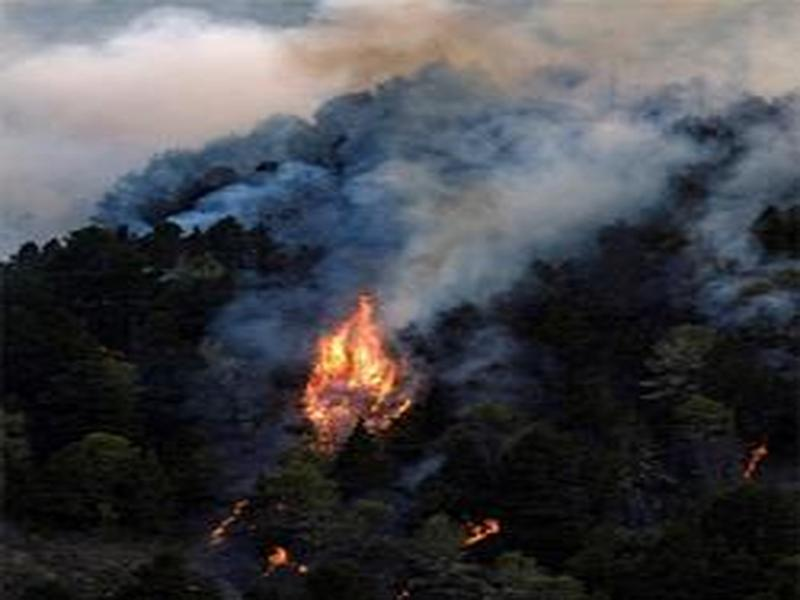FIRE: (232, 286, 514, 568)
